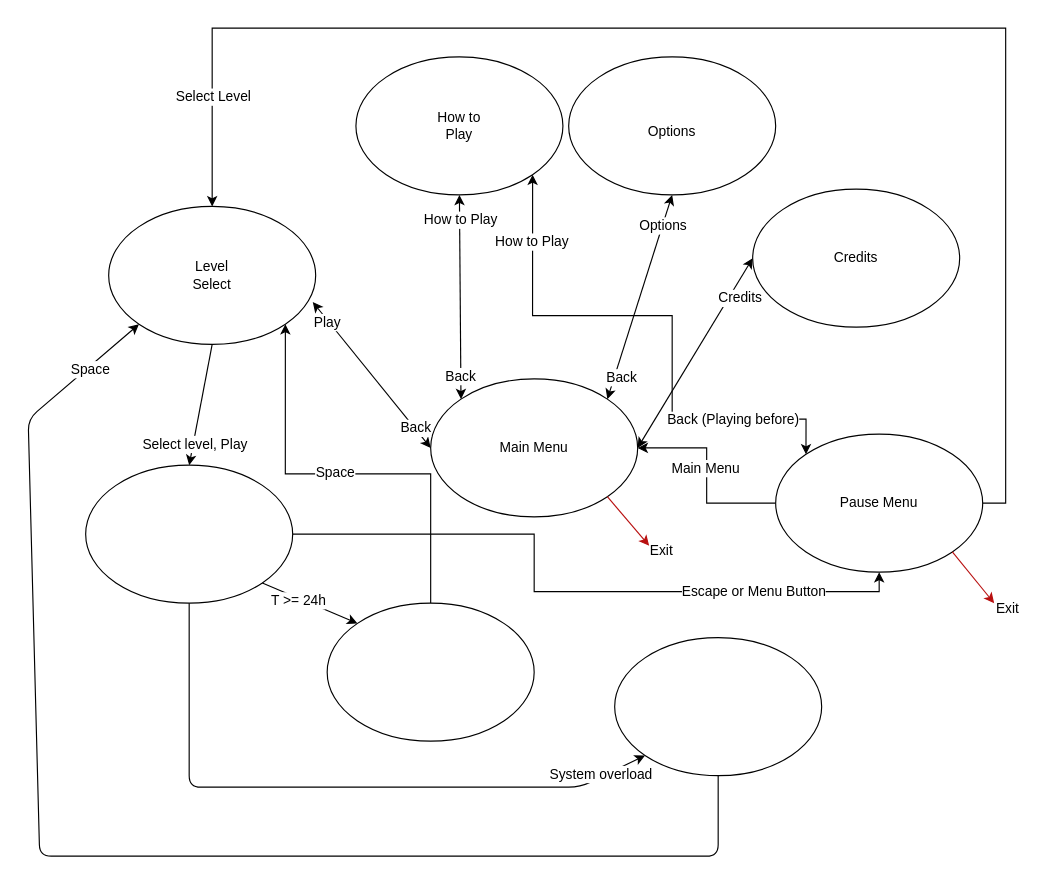
This 1049x886 diagram has some shape labels left out. Here are the shapes that lost their labels. From the top down, the centre of each, then its label:
At [189,533]: "Playing".
At [430,671]: "Won".
At [718,706]: "Lost".
